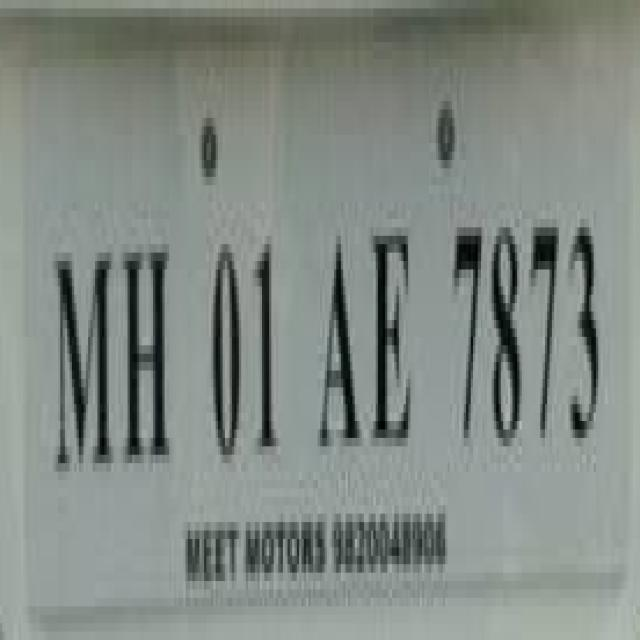license_plate: (0, 17, 619, 581)
